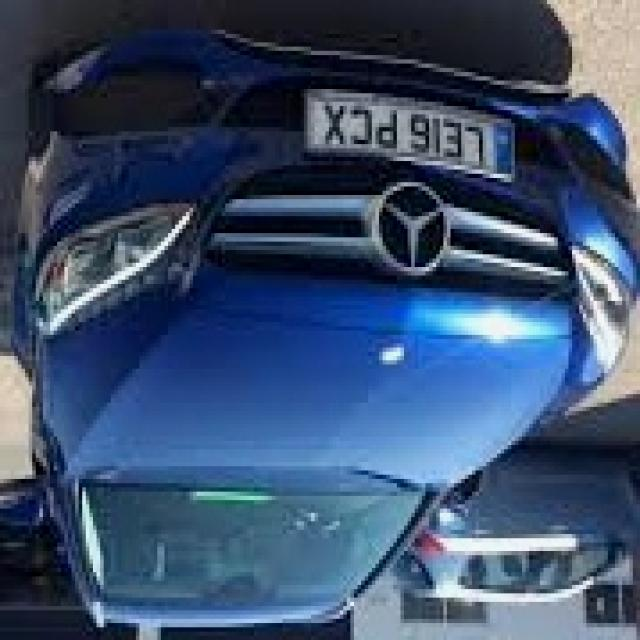blue: (0, 18, 640, 632)
silver: (418, 440, 636, 625)
